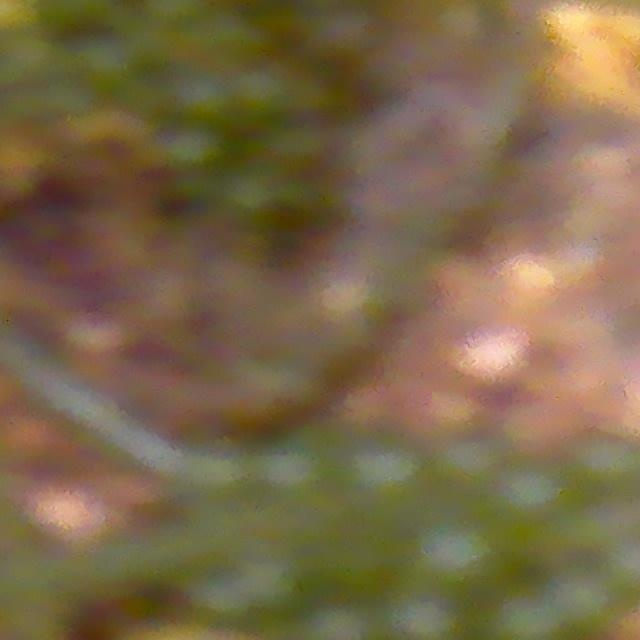SeaGrape: (409, 509, 510, 600), (346, 431, 427, 513), (480, 580, 576, 640), (495, 458, 575, 526), (573, 429, 640, 498), (383, 588, 468, 640), (434, 430, 502, 494)
